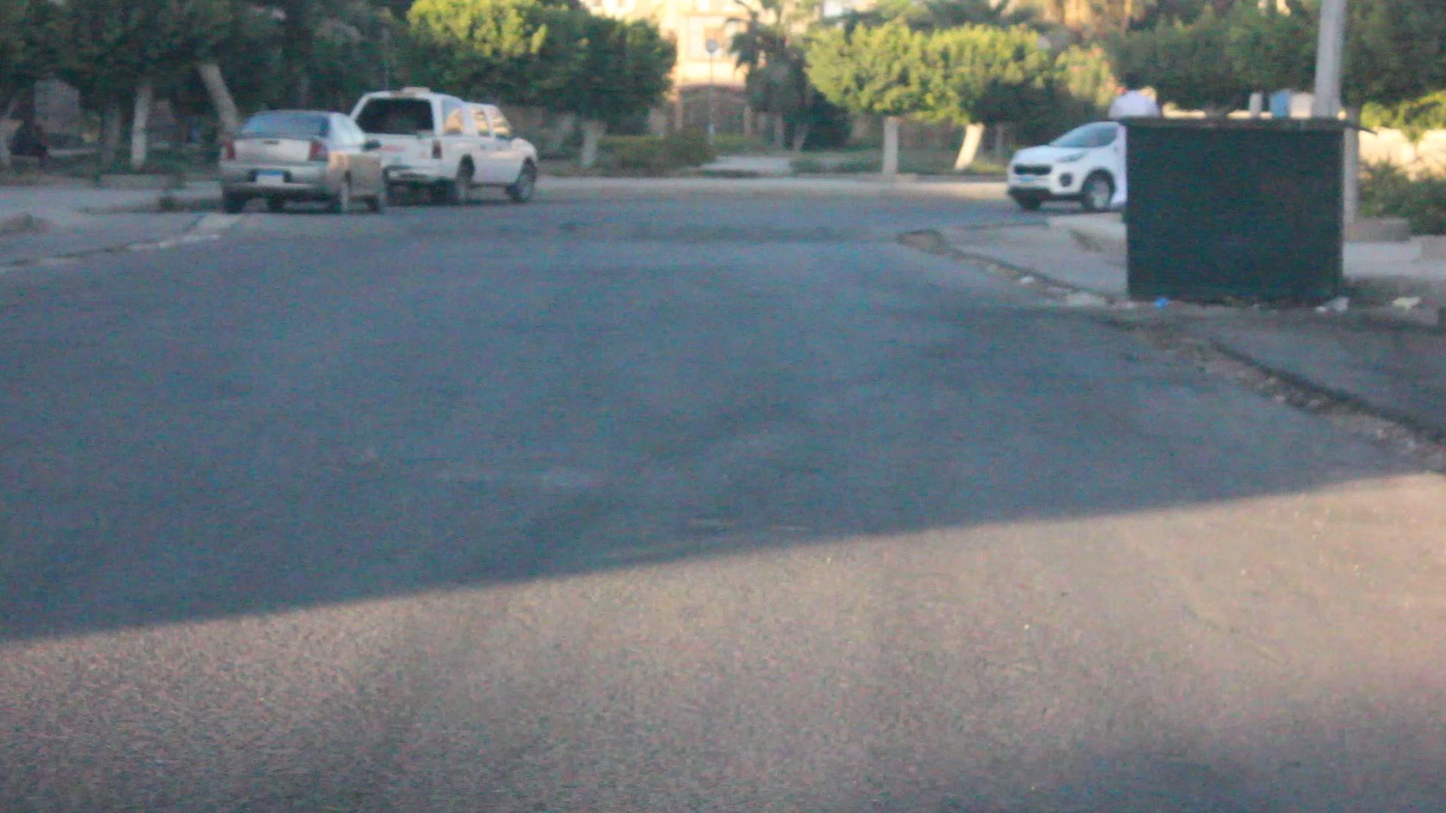Bump: (153, 198, 919, 248)
